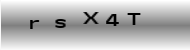4: (106, 12, 120, 26)
T: (126, 11, 141, 25)
X: (82, 10, 99, 25)
r: (29, 18, 41, 30)
s: (54, 17, 67, 29)
